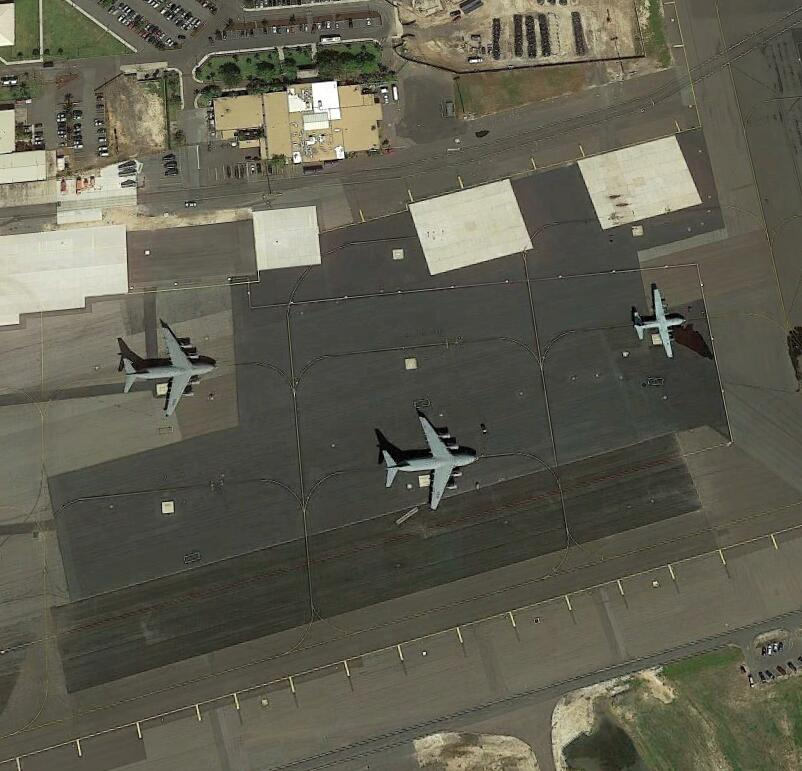A2: (632, 288, 691, 362)
A3: (381, 416, 481, 515), (121, 324, 221, 418)
